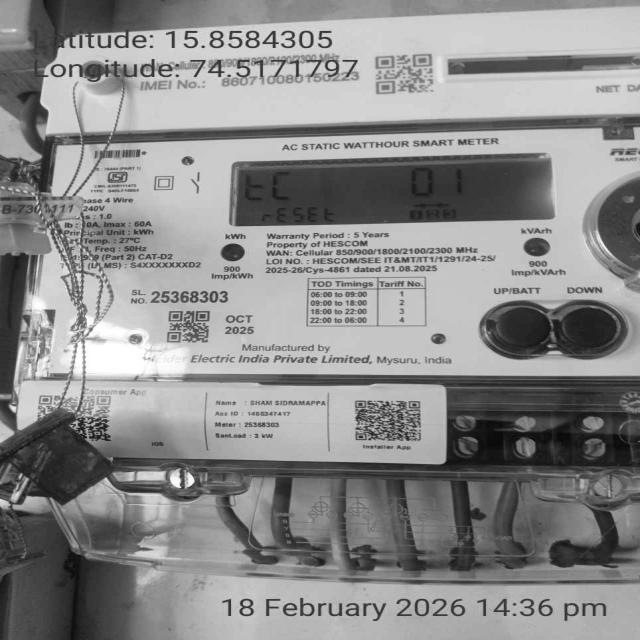meter: (33, 13, 640, 378)
